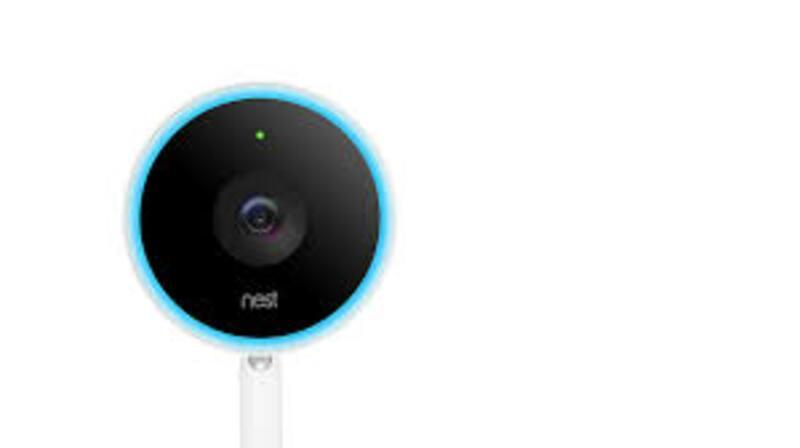nest: (116, 68, 403, 359)
